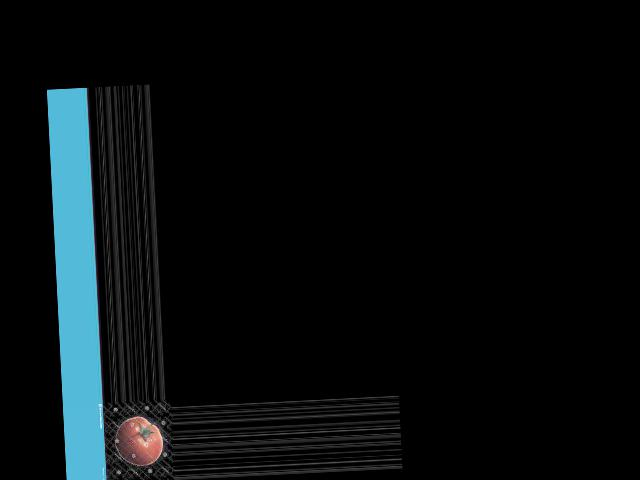tomato: (114, 415, 163, 467)
